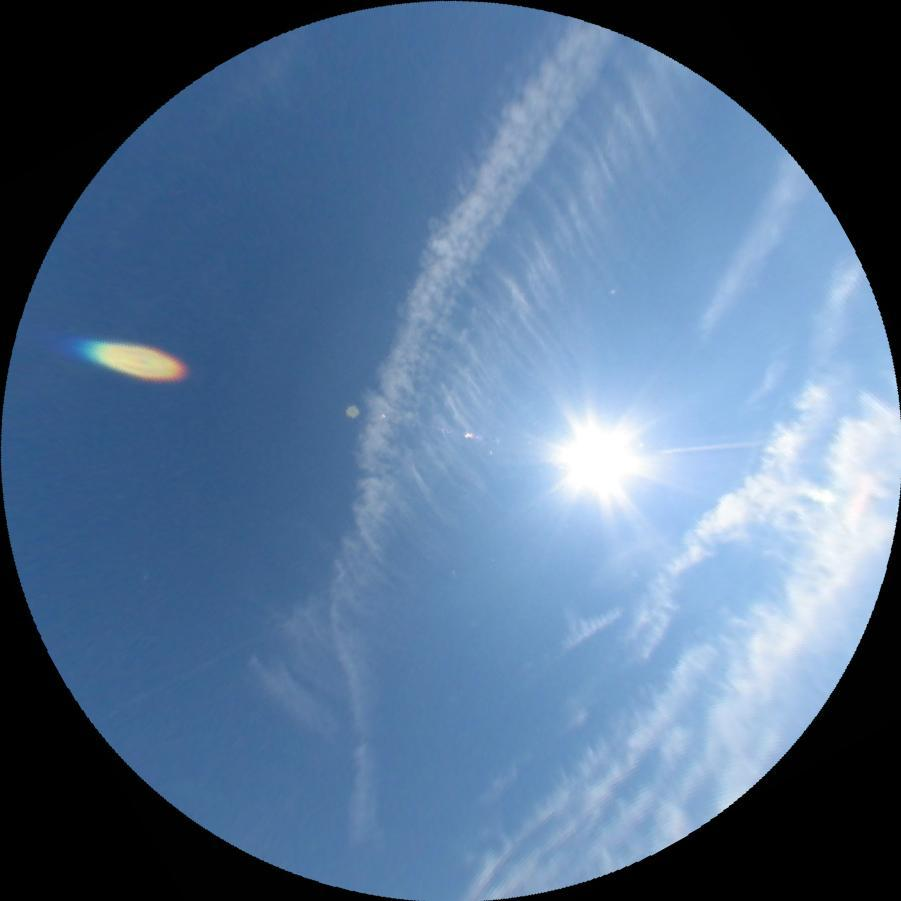contrail veryold: (233, 29, 732, 756), (229, 0, 626, 860), (690, 151, 819, 352)
parasite: (657, 438, 766, 456)
sun: (569, 427, 628, 492)
